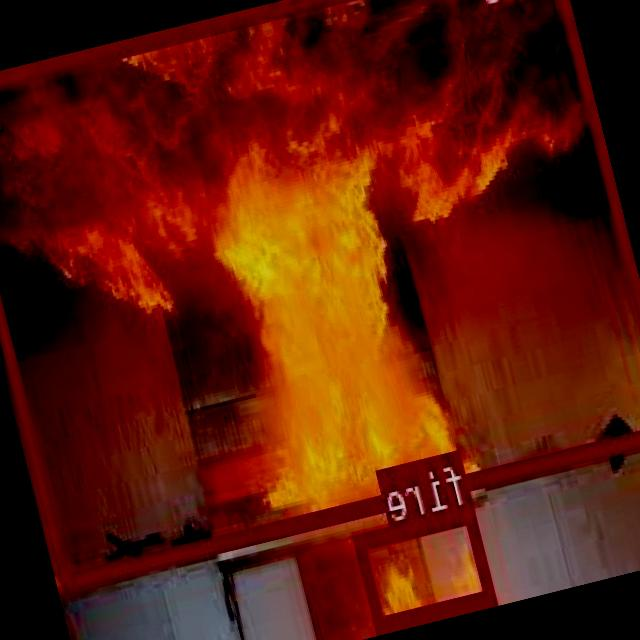fire: (0, 0, 640, 585), (356, 502, 498, 628)
